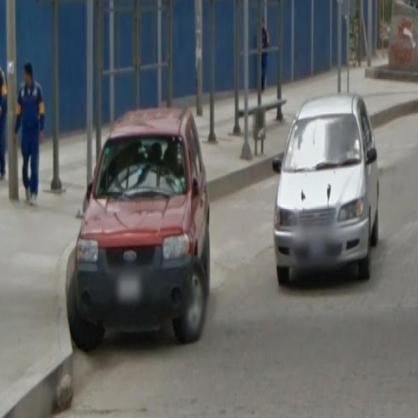car: (73, 109, 213, 352), (273, 95, 382, 289)
